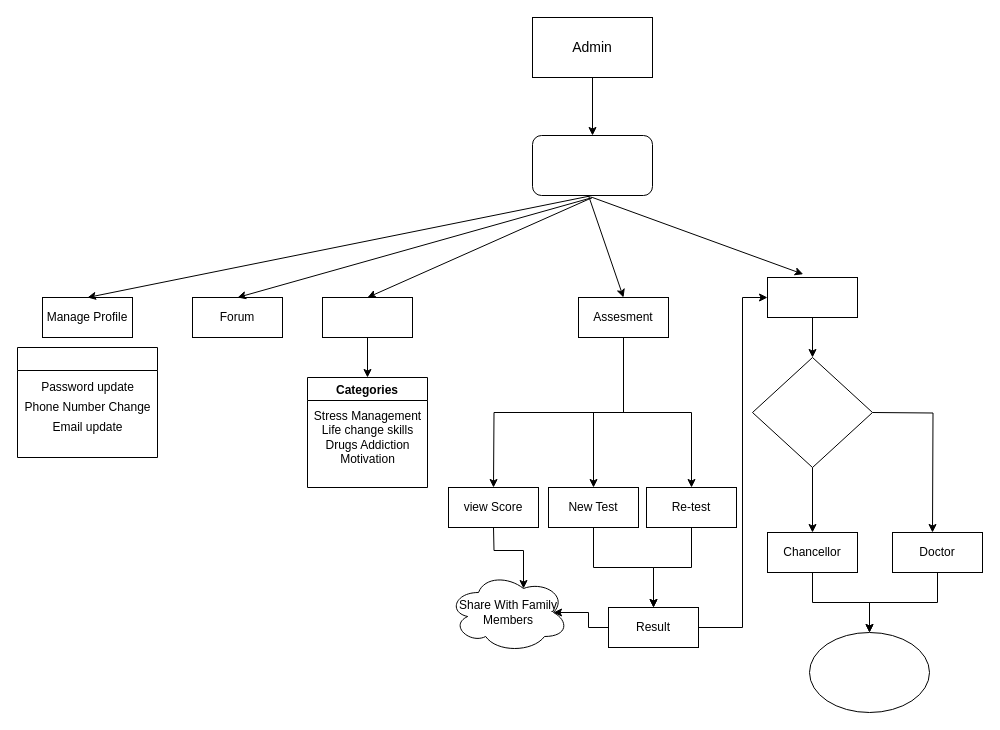
This 1000x730 diagram has some shape labels left out. Here are the shapes that lost their labels. From the top down, the box of each, then its label:
(532, 134, 652, 196): Client
(322, 296, 412, 338): Workshop
(766, 276, 858, 318): Appointments
(16, 346, 158, 458): edit
(752, 356, 872, 468): Councellor or Doctor
(808, 632, 930, 712): Schedule Appointment
